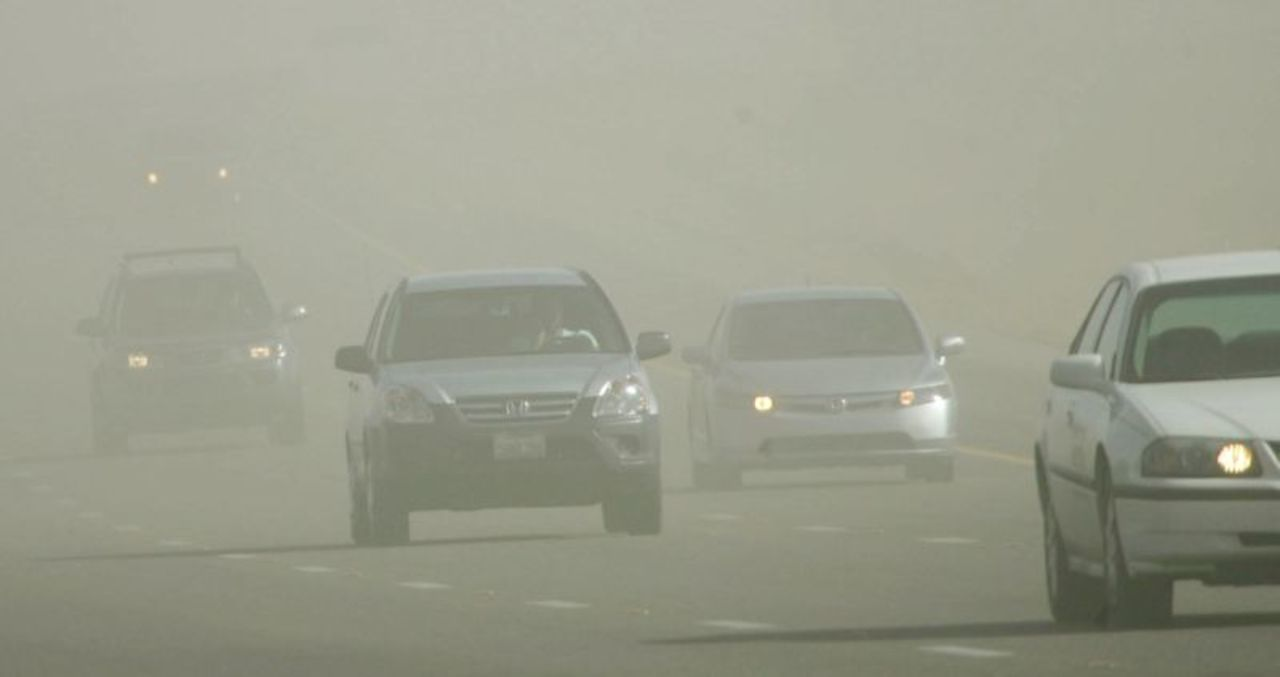car: (1023, 243, 1278, 615), (339, 268, 674, 540), (685, 281, 962, 485), (83, 248, 298, 451), (133, 117, 243, 231)
